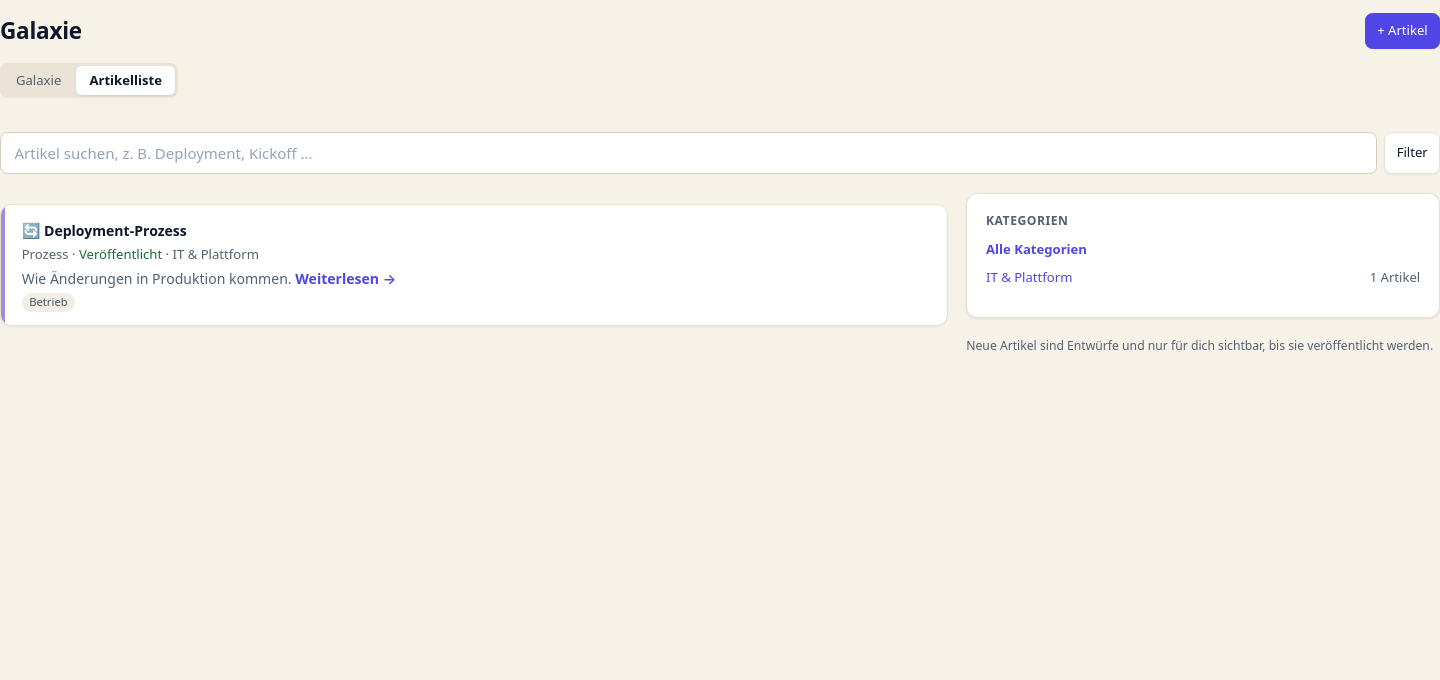
Test case: KnowledgePage › reports concurrent changes
Click the button "Deployment-Prozess" at (115, 230), box [0, 204, 948, 326]
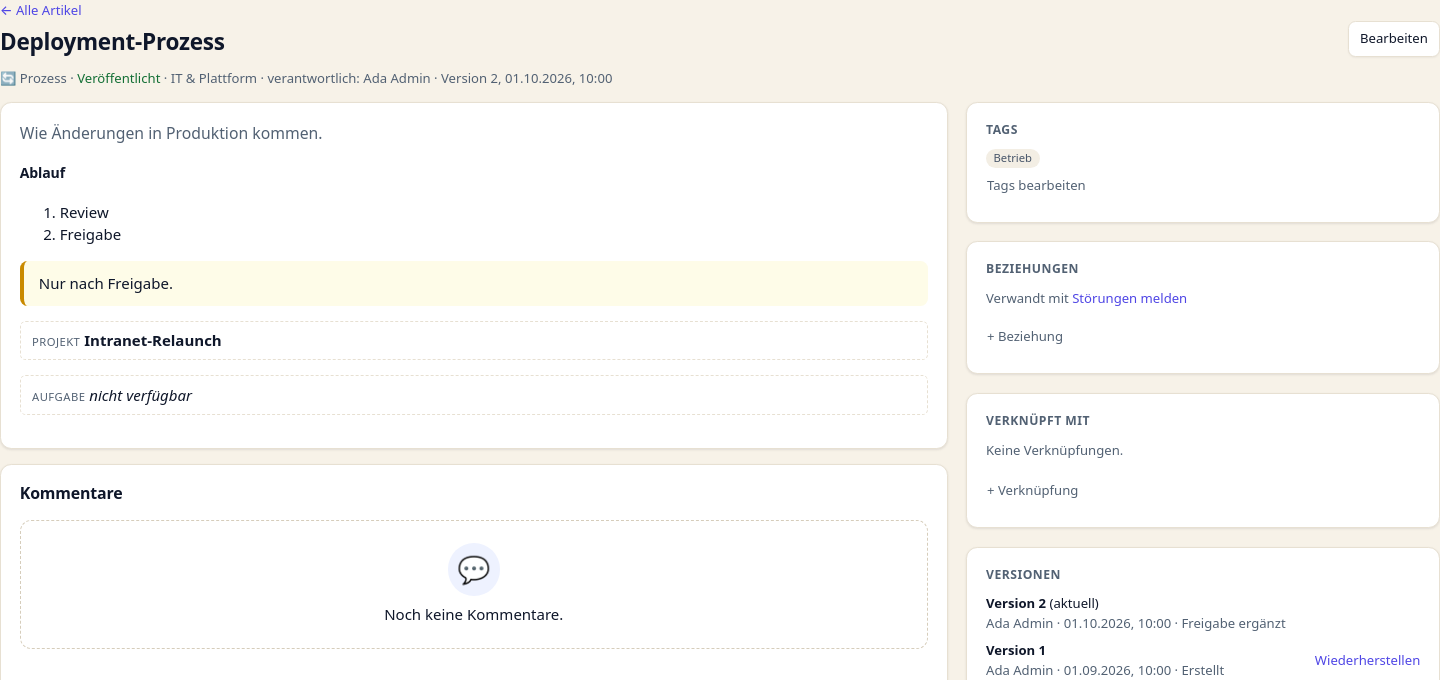
Click the button "Bearbeiten" at (1394, 39), box [1348, 21, 1439, 57]
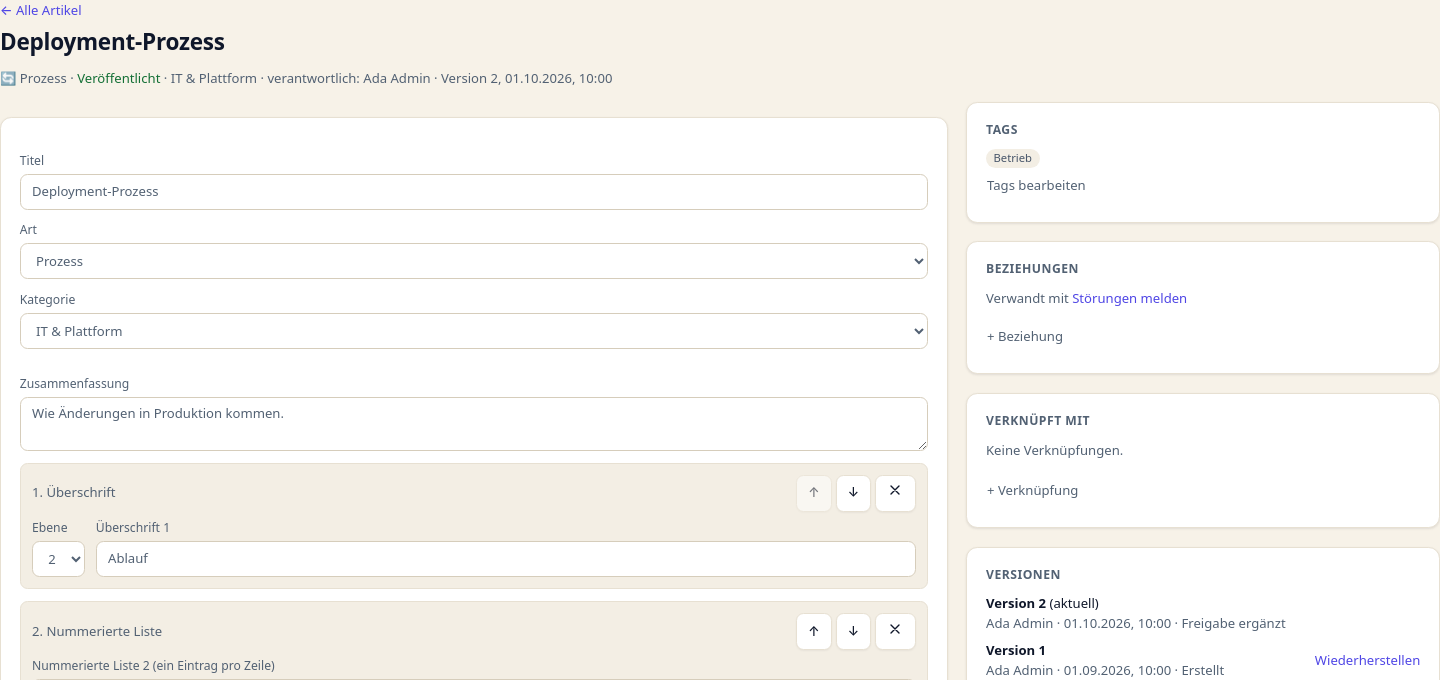
Click the button named "Block 1 entfernen" at (895, 493), box [875, 475, 916, 512]
(page scrolled)
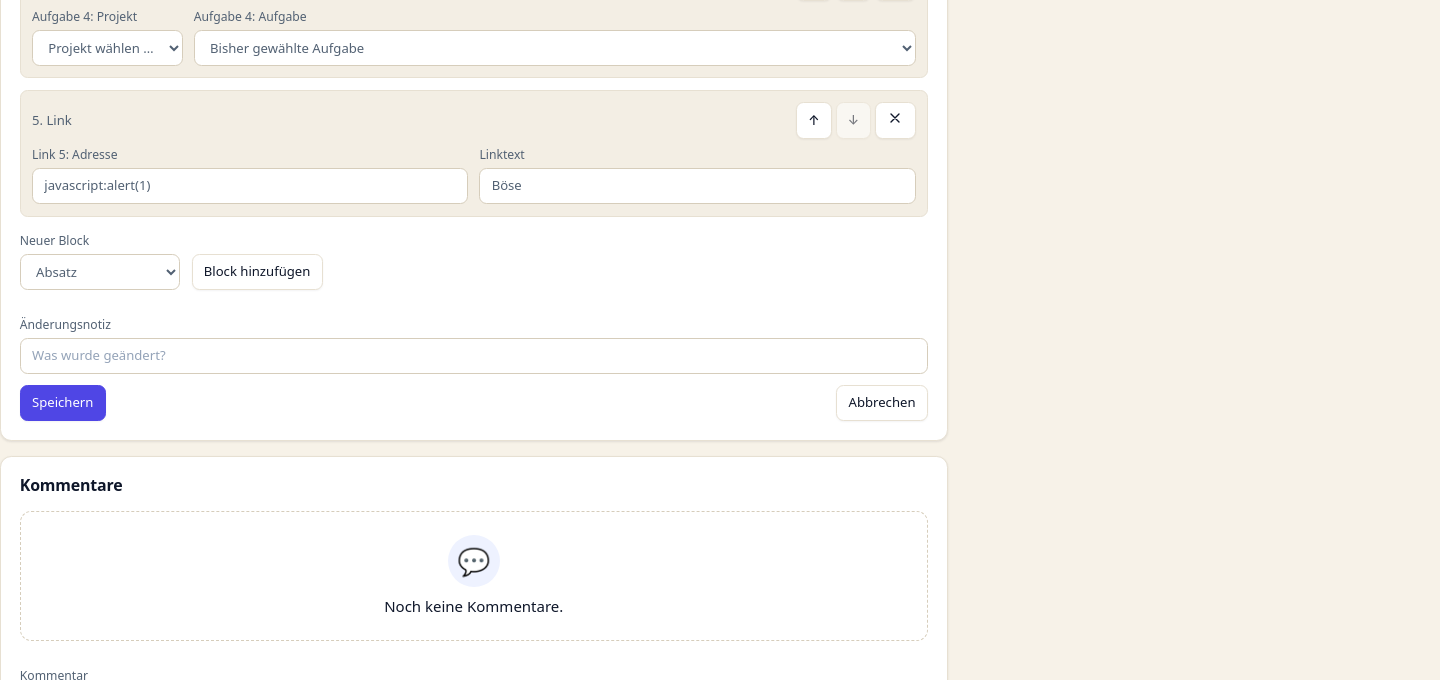
Click the button "Speichern" at (63, 403), box [20, 385, 106, 421]
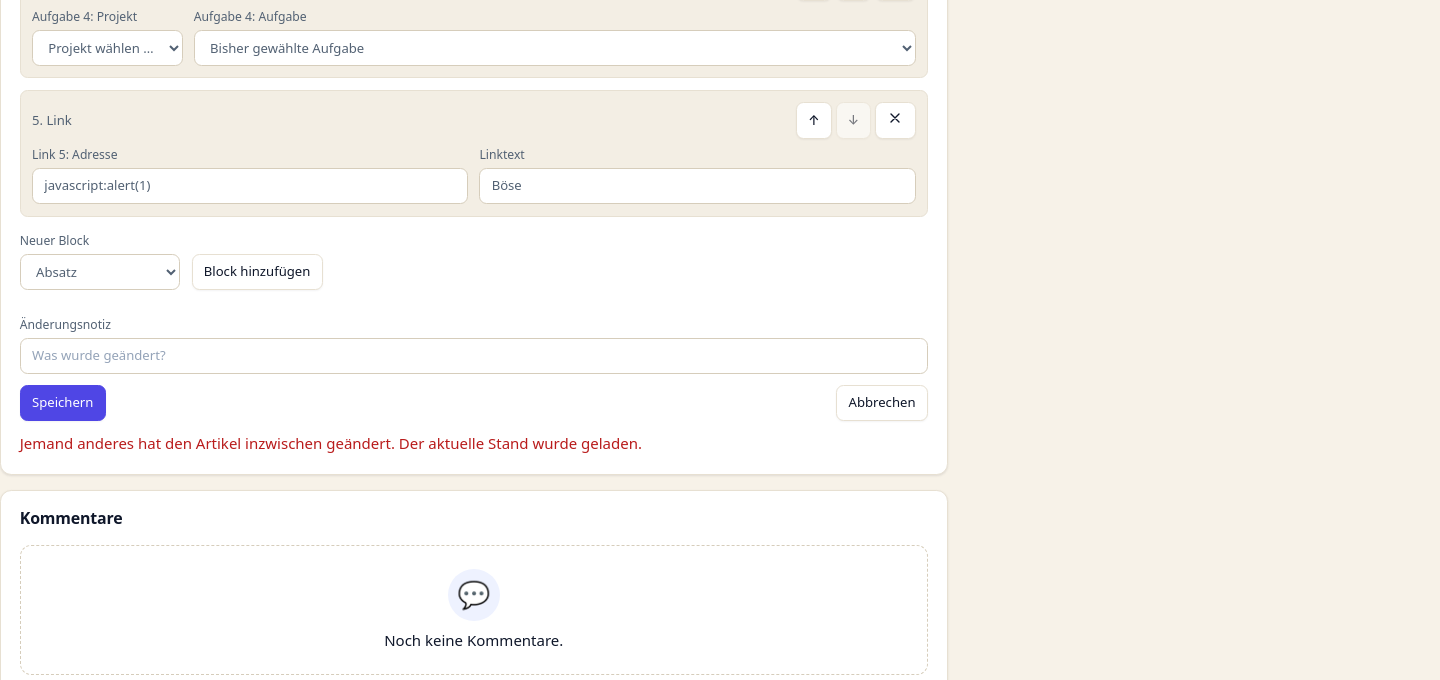
Expected: the text "Jemand anderes hat den Artikel inzwischen geändert" is shown, [20, 433, 642, 453]
